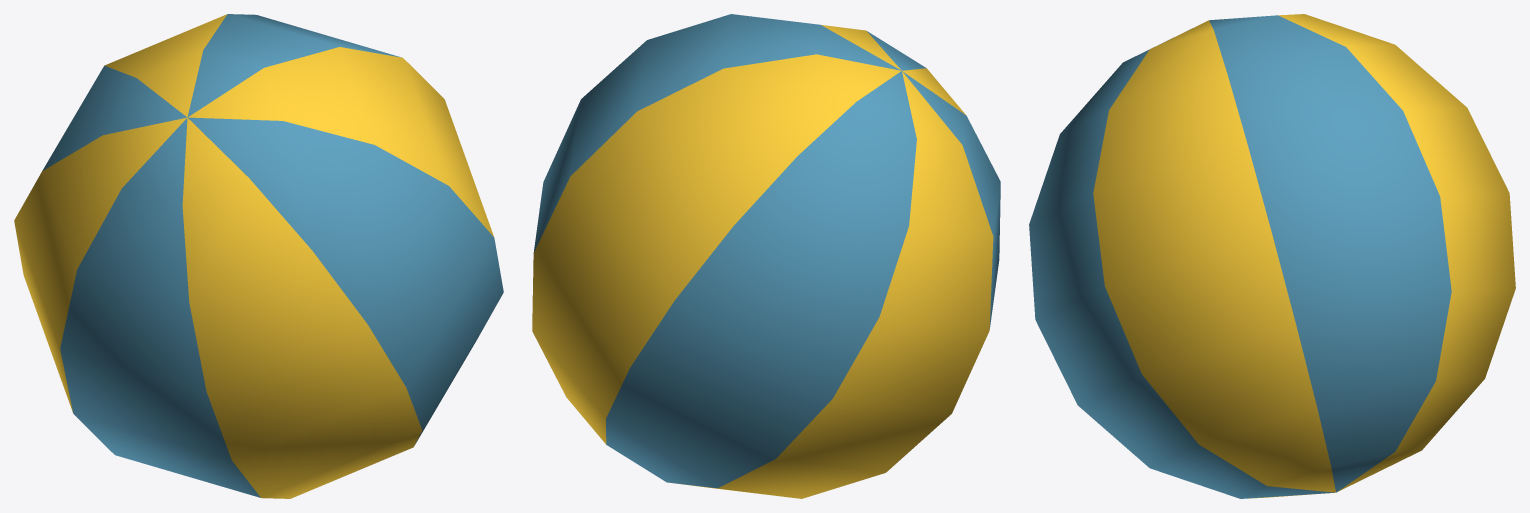
File: Isl_9_Ball_Toy_2.fbx
The picture shows the model from 3 angles, left to right: view 1: azimuth 30°, elevation 25°; view 2: azimuth 150°, elevation 25°; view 3: azimuth 270°, elevation 25°; orthographic projection.
Parts seen in each view (by area): view 1: Isl_9_Ball_Toy_2; view 2: Isl_9_Ball_Toy_2; view 3: Isl_9_Ball_Toy_2.
Part boxes in pixels (<box>): Isl_9_Ball_Toy_2: <box>14,14,503,498</box>; Isl_9_Ball_Toy_2: <box>532,14,1000,498</box>; Isl_9_Ball_Toy_2: <box>1029,14,1515,498</box>.
Bounding box in the file's own units: 65.36 × 65.79 × 64.29.
Materials: 1 (1 with a texture image).
